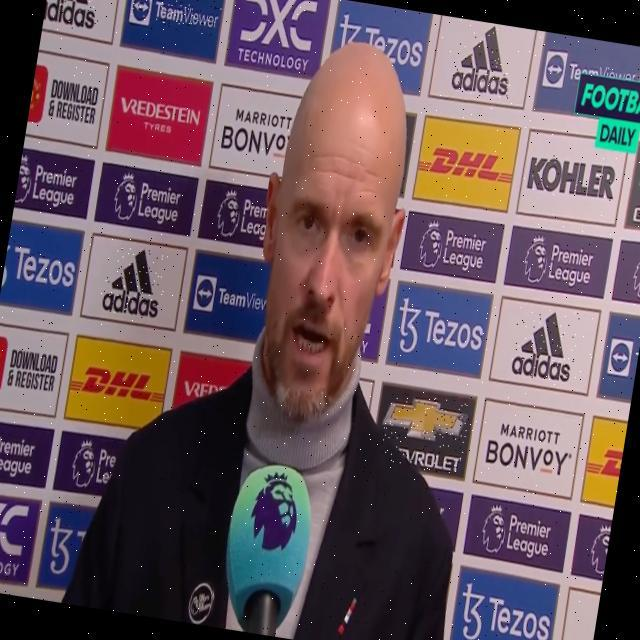Adidas: (509, 304, 581, 386), (450, 19, 520, 101), (100, 242, 170, 321), (43, 0, 107, 32)
Chevrolet: (377, 390, 471, 476)
Kohler: (527, 152, 619, 203)
TeamViewer: (129, 0, 222, 36)
